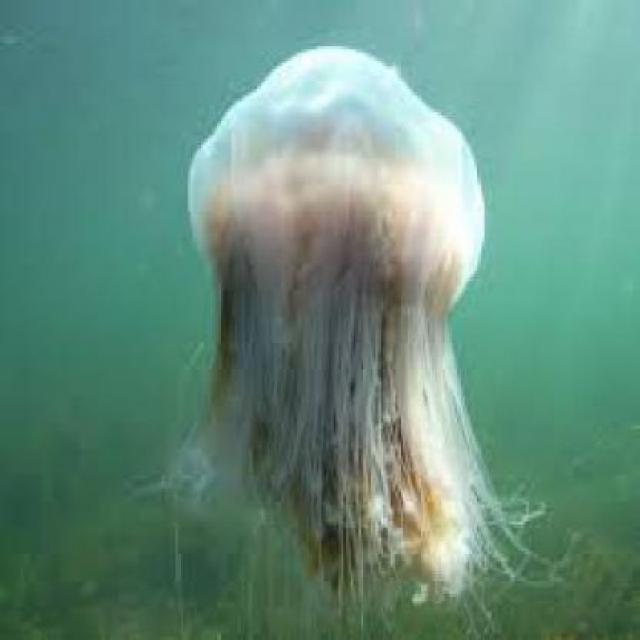Jellyfish: (143, 36, 559, 627)
